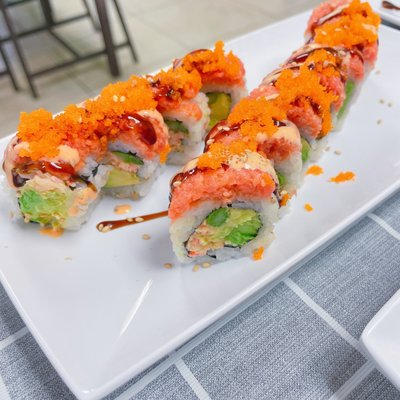soup: (166, 30, 371, 263)
